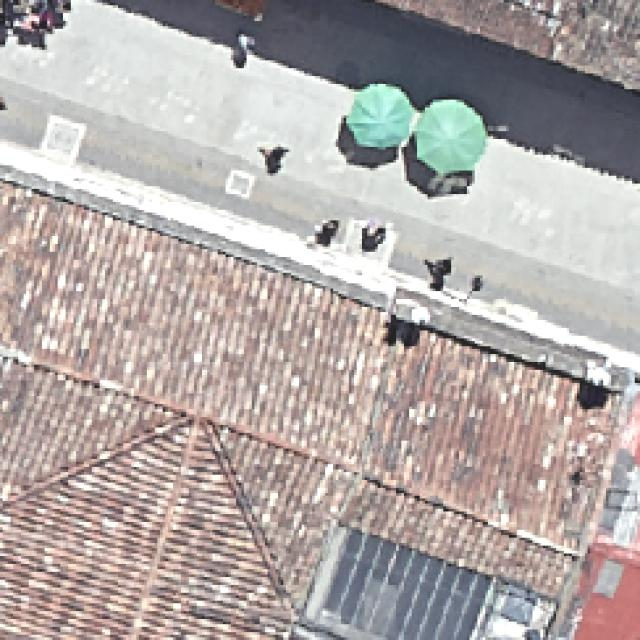vendedor_ambulante: (412, 98, 486, 176), (346, 84, 416, 152)
